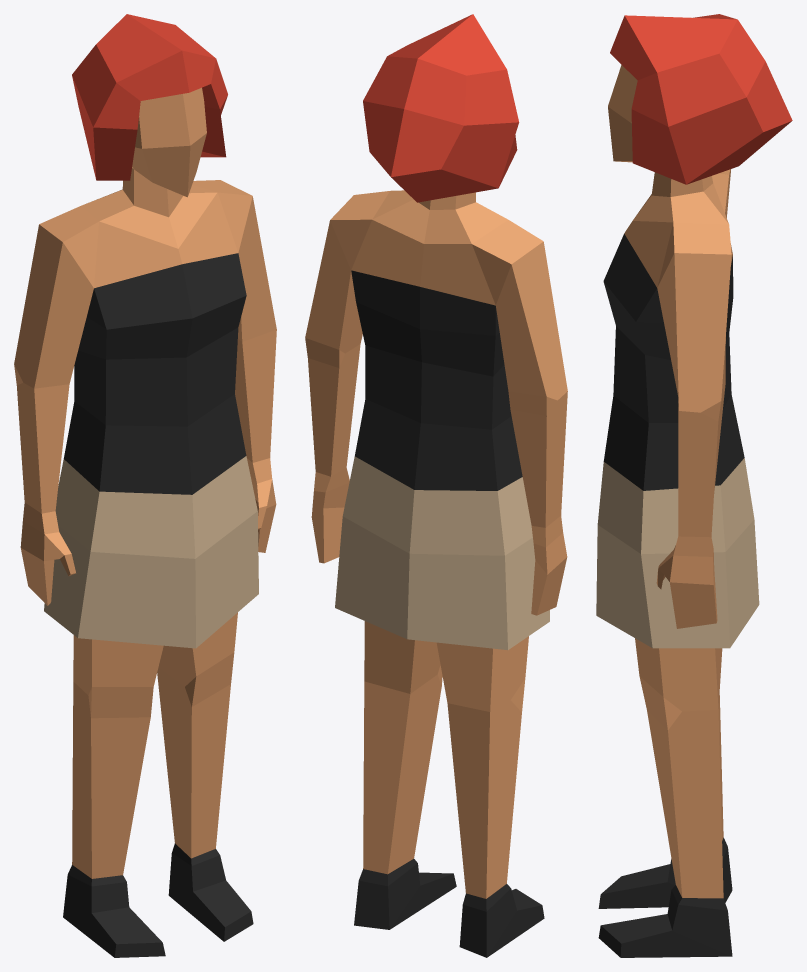
Rendered from woman-ginger.glb.
3 views of the same model, side by side, from view 1: azimuth 30°, elevation 25°; view 2: azimuth 150°, elevation 25°; view 3: azimuth 270°, elevation 25° (orthographic). The views are drawn at different scales.
Visible parts, largest first — view 1: woman-ginger; view 2: woman-ginger; view 3: woman-ginger.
Part boxes in pixels (box(x1,y1,x2,y2)): woman-ginger: box(14, 14, 276, 957); woman-ginger: box(305, 14, 567, 957); woman-ginger: box(596, 14, 792, 957).
Bounding box in the file's own units: 0.5287 × 1.85 × 0.3617.
Materials: 1 (1 with a texture image).
